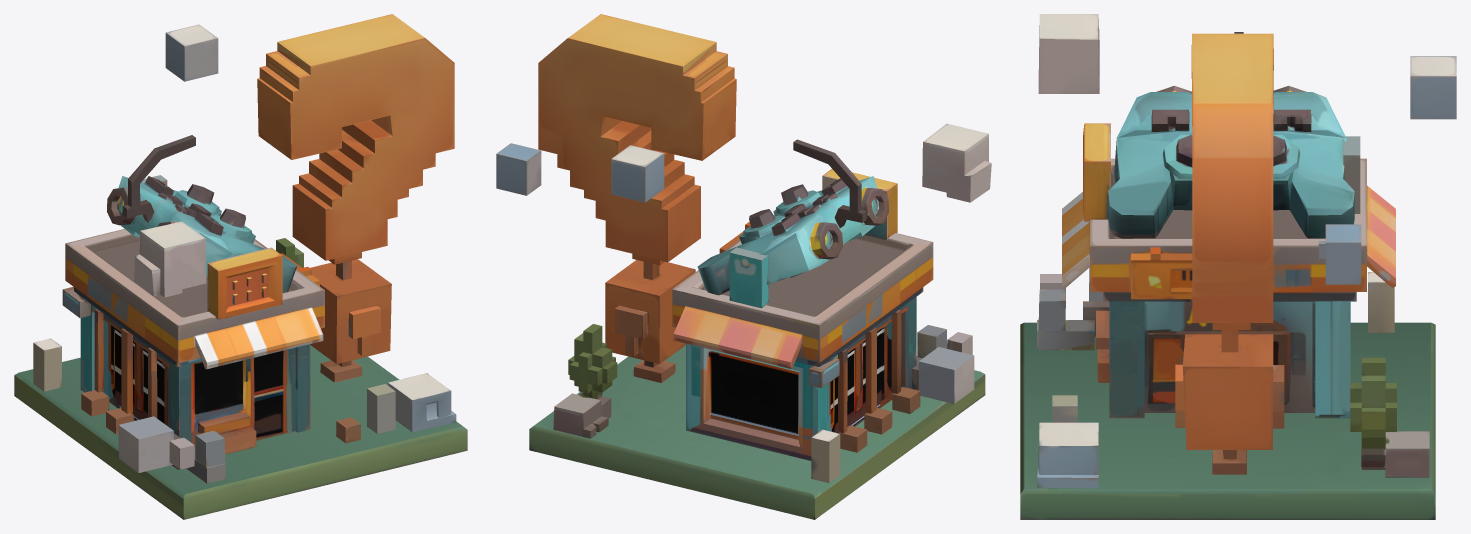
Rendered from Model_building_jiemi.fbx.
The picture shows the model from 3 angles, left to right: view 1: azimuth 30°, elevation 25°; view 2: azimuth 150°, elevation 25°; view 3: azimuth 270°, elevation 25°; orthographic projection. The views are drawn at different scales.
Parts seen in each view (by area): view 1: 解密小屋; view 2: 解密小屋; view 3: 解密小屋.
Part boxes in pixels (x1,y1,x2,y2): 解密小屋: (14,14,467,519); 解密小屋: (496,14,991,519); 解密小屋: (1020,14,1456,519).
Bounding box in the file's own units: 5.83 × 5.39 × 4.91.
